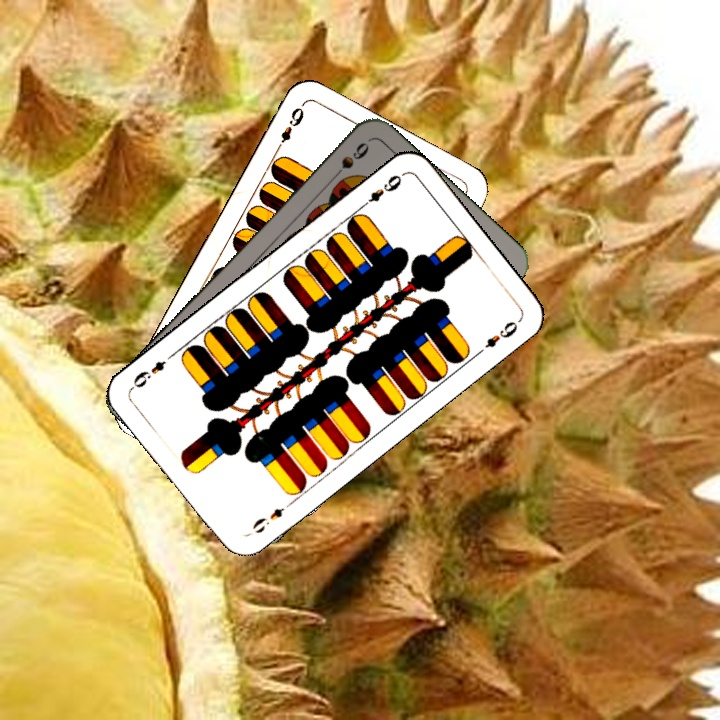E9: (356, 170, 404, 212), (271, 101, 307, 155), (248, 503, 287, 536)
S9: (326, 138, 372, 185)
